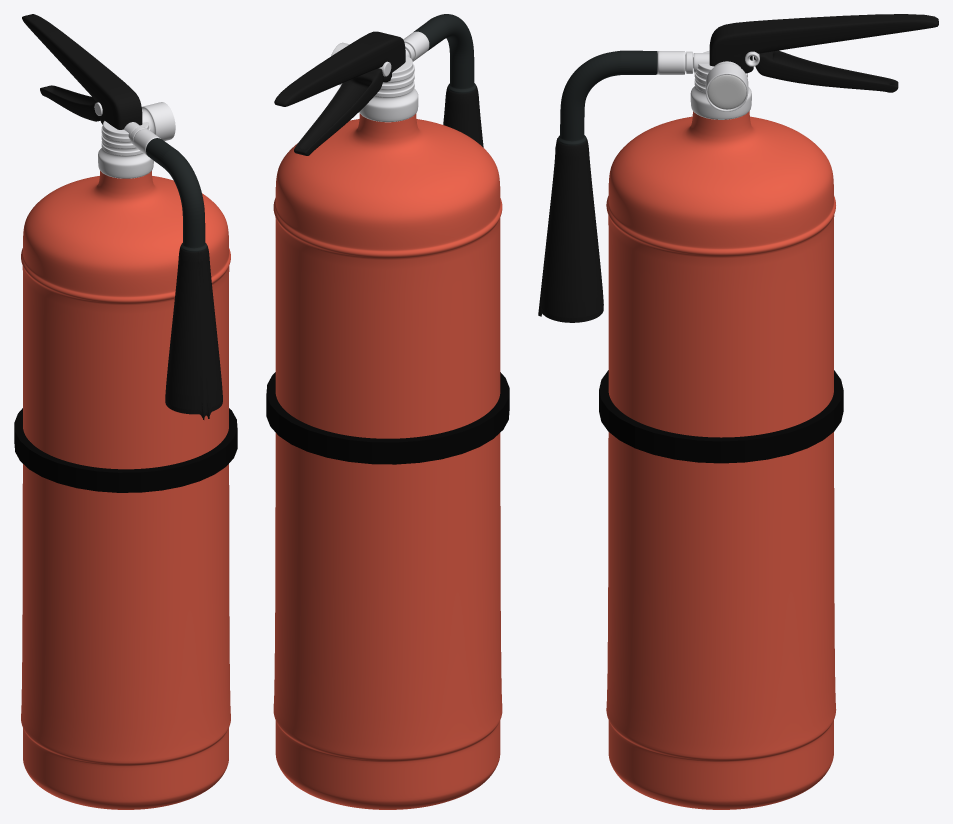
Rendered from FE_withoutPin.fbx.
3 views of the same model, side by side, from view 1: azimuth 30°, elevation 25°; view 2: azimuth 150°, elevation 25°; view 3: azimuth 270°, elevation 25° (orthographic). The views are drawn at different scales.
Parts seen in each view (by area): view 1: FE_withoutPin; view 2: FE_withoutPin; view 3: FE_withoutPin.
Boxes of the visible parts, x1,y1,x2,y2 form: FE_withoutPin: (14, 14, 237, 809); FE_withoutPin: (266, 14, 509, 809); FE_withoutPin: (538, 14, 938, 809).
Bounding box in the file's own units: 16.88 × 57.34 × 27.67.
